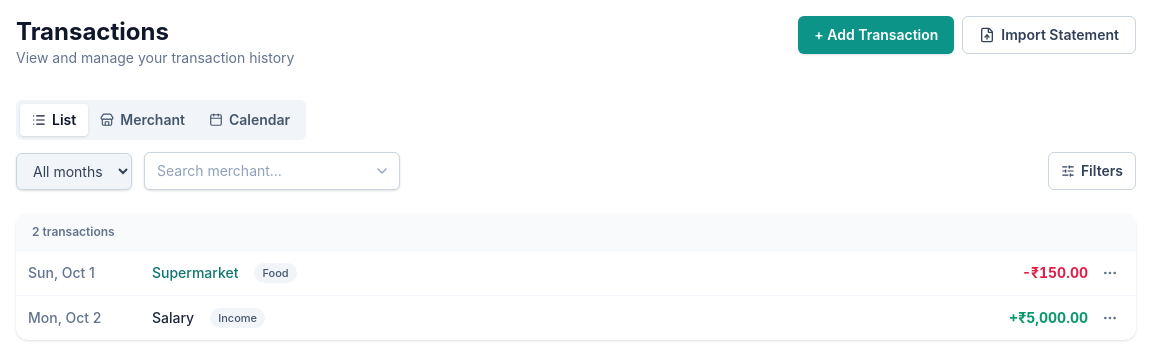
Test: TransactionsPage › Merchant view scope pill — formatted month for monthly window
The width and height of the screenshot is (1153, 358).
Expected: the link "Supermarket" is shown, [152, 264, 238, 281]
Click the tab "Merchant" at (143, 120), box [88, 104, 197, 136]
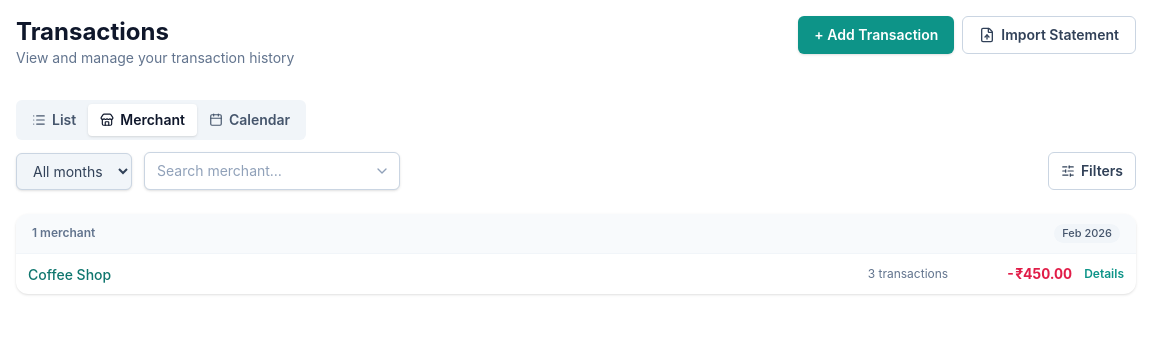
Expected: the text with test id "merchant-scope-pill" reads "Feb 2026", [1062, 226, 1112, 240]
